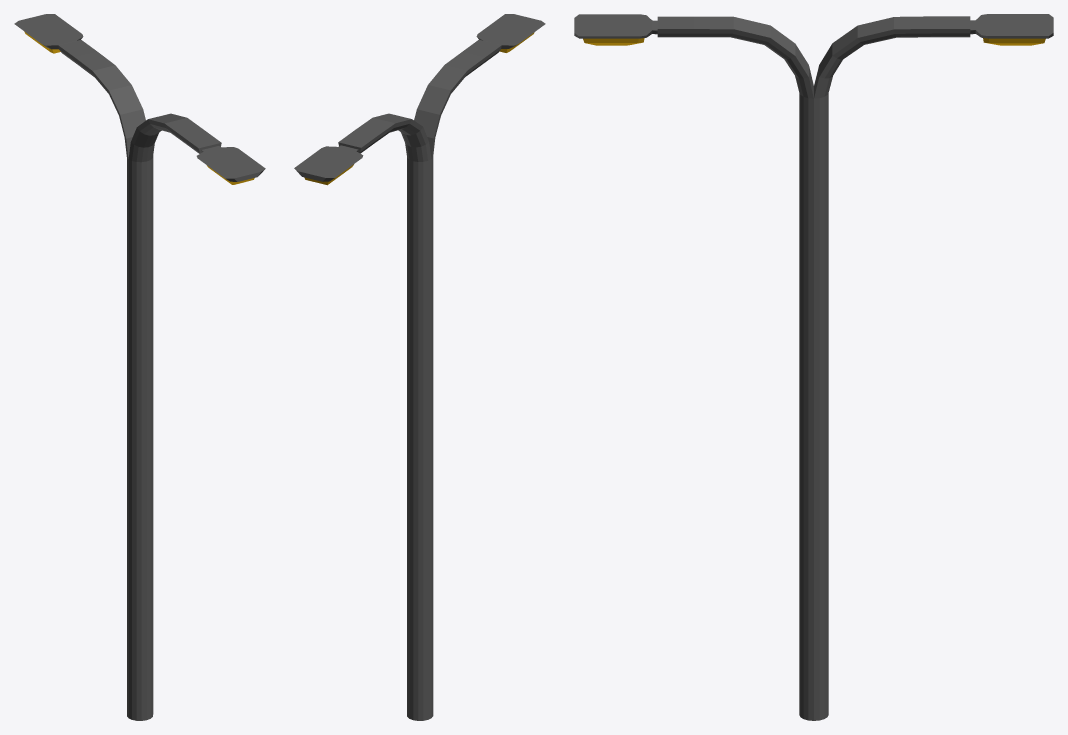
File: streetlight.fbx
3 views of the same model, side by side, from view 1: azimuth 30°, elevation 25°; view 2: azimuth 150°, elevation 25°; view 3: azimuth 270°, elevation 25° (orthographic). The views are drawn at different scales.
Visible parts, largest first — view 1: Cylinder; view 2: Cylinder; view 3: Cylinder.
Boxes of the visible parts, x1,y1,x2,y2 form: Cylinder: [14, 14, 265, 720]; Cylinder: [294, 14, 545, 720]; Cylinder: [574, 14, 1053, 720].
Bounding box in the file's own units: 127 × 1851 × 1162.
